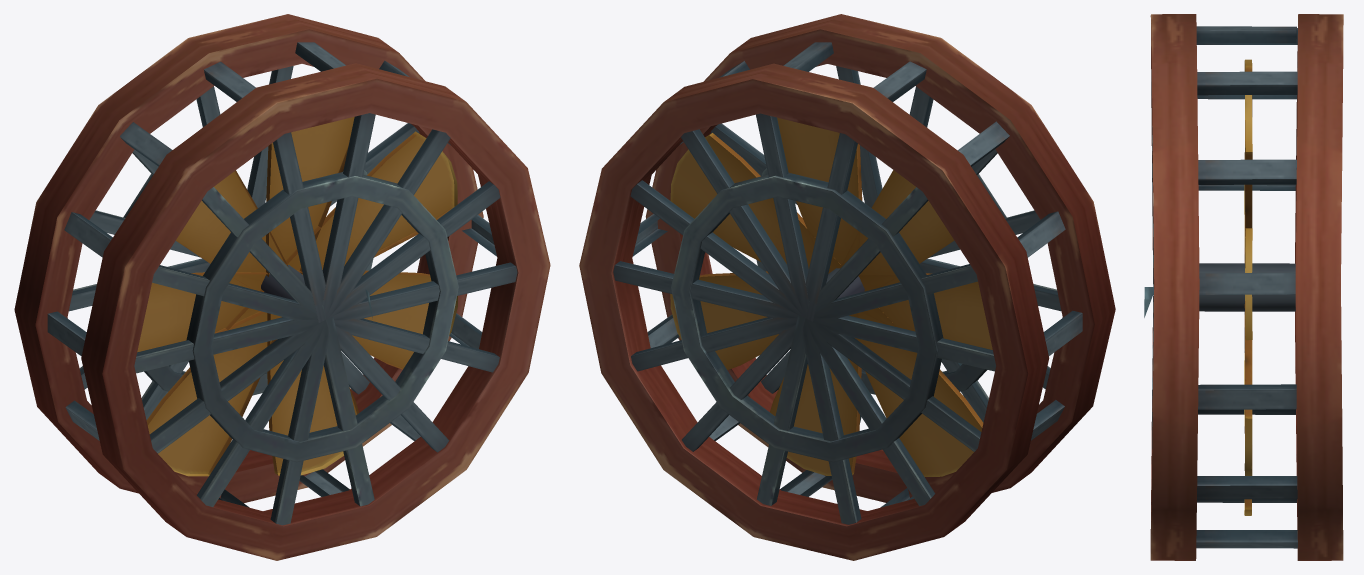
The model's file is xsc_3_09.fbx.
3 renders of one model, left to right at view 1: azimuth 30°, elevation 25°; view 2: azimuth 150°, elevation 25°; view 3: azimuth 270°, elevation 25°, orthographic. The views are drawn at different scales.
Visible parts, largest first — view 1: xsc_3_09; view 2: xsc_3_09; view 3: xsc_3_09.
Boxes of the visible parts, x1=… form: xsc_3_09: x1=14, y1=14, x2=550, y2=560; xsc_3_09: x1=579, y1=14, x2=1115, y2=560; xsc_3_09: x1=1144, y1=14, x2=1343, y2=560.
Bounding box in the file's own units: 1028 × 1003 × 377.
